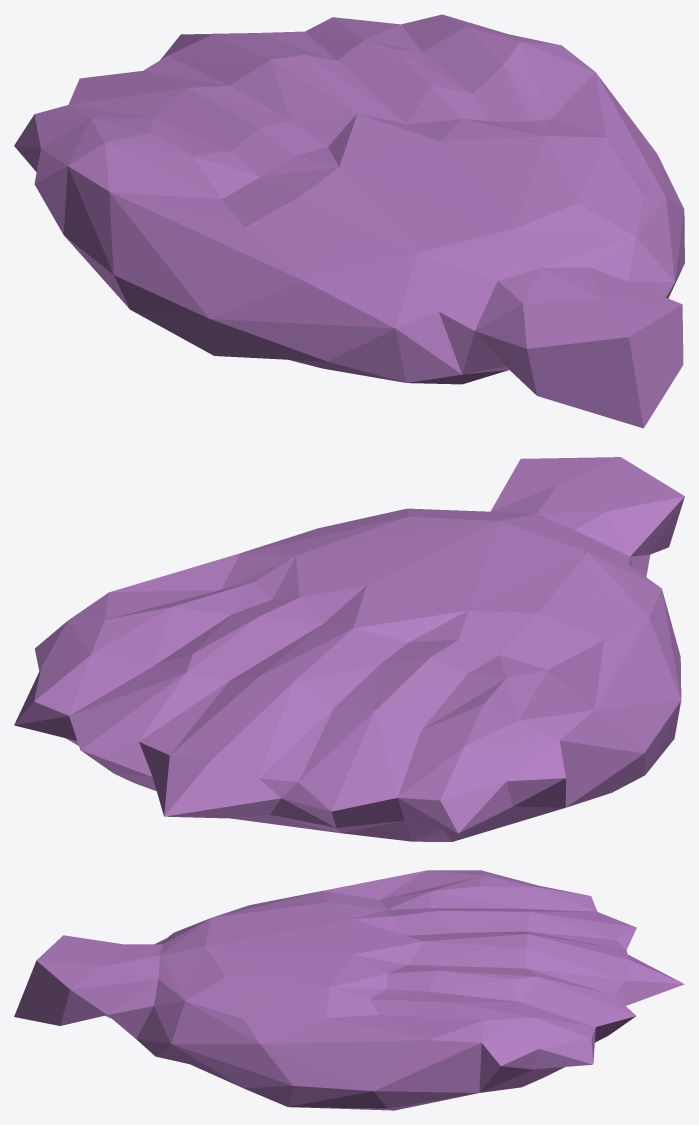
The model's file is PurpleShell.fbx.
The picture shows the model from 3 angles, top to bottom: view 1: azimuth 30°, elevation 25°; view 2: azimuth 150°, elevation 25°; view 3: azimuth 270°, elevation 25°; orthographic projection. The views are drawn at different scales.
Parts seen in each view (by area): view 1: Cube; view 2: Cube; view 3: Cube.
Boxes of the visible parts, x1,y1,x2,y2 form: Cube: (14,14,684,428); Cube: (14,457,684,841); Cube: (14,870,684,1110).
Bounding box in the file's own units: 203 × 45.66 × 309.
